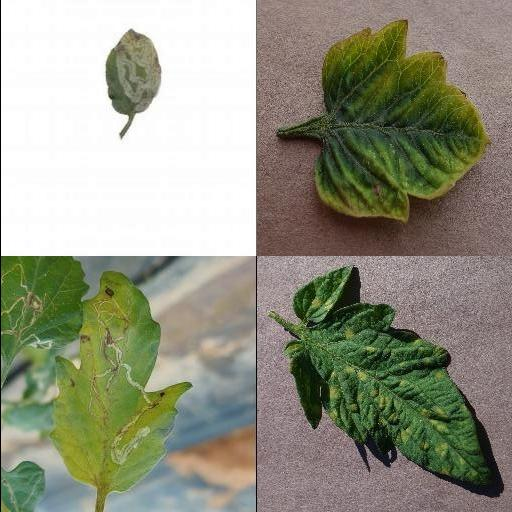Leaf Miner: (48, 271, 194, 493), (106, 28, 163, 116)
Leaf Mold: (282, 268, 490, 484)
Yellow Leaf Curl Virus: (310, 18, 494, 224)
